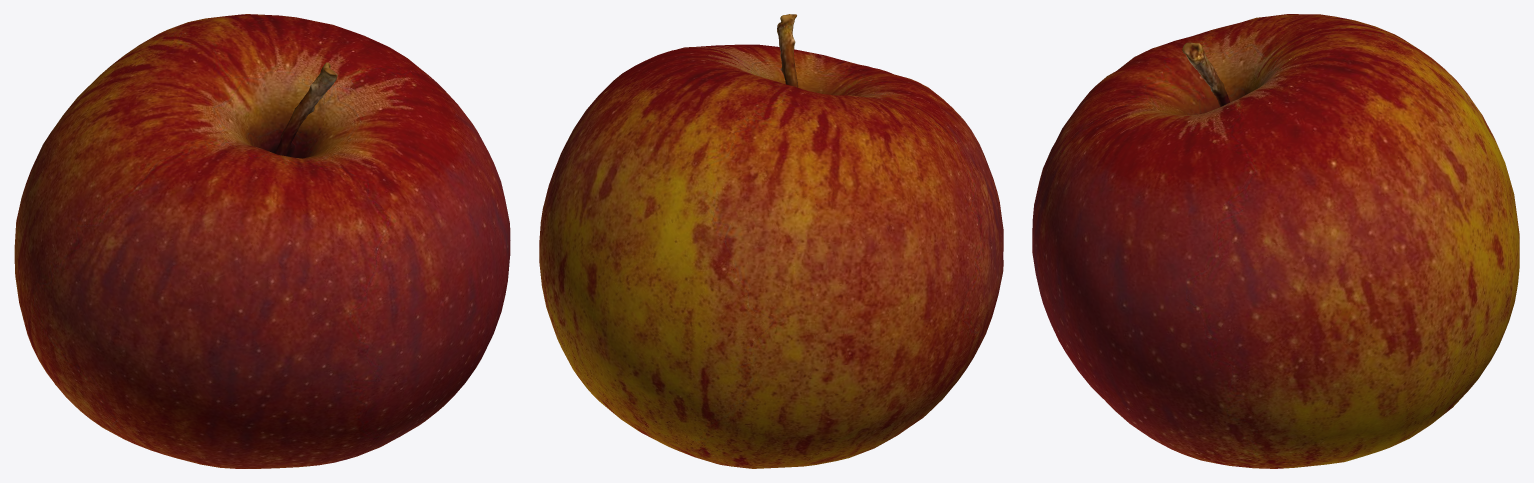
Rendered from food-apple-01.glb.
3 views of the same model, side by side, from view 1: azimuth 30°, elevation 25°; view 2: azimuth 150°, elevation 25°; view 3: azimuth 270°, elevation 25° (orthographic). The views are drawn at different scales.
Parts seen in each view (by area): view 1: food_apple_01; view 2: food_apple_01; view 3: food_apple_01.
Part boxes in pixels (bbox=[...]): food_apple_01: bbox=[14, 14, 510, 468]; food_apple_01: bbox=[539, 14, 1003, 468]; food_apple_01: bbox=[1032, 14, 1519, 468].
Size of the model in its own units: 0.0976 by 0.0854 by 0.0959.
1 material, 1 textured.
